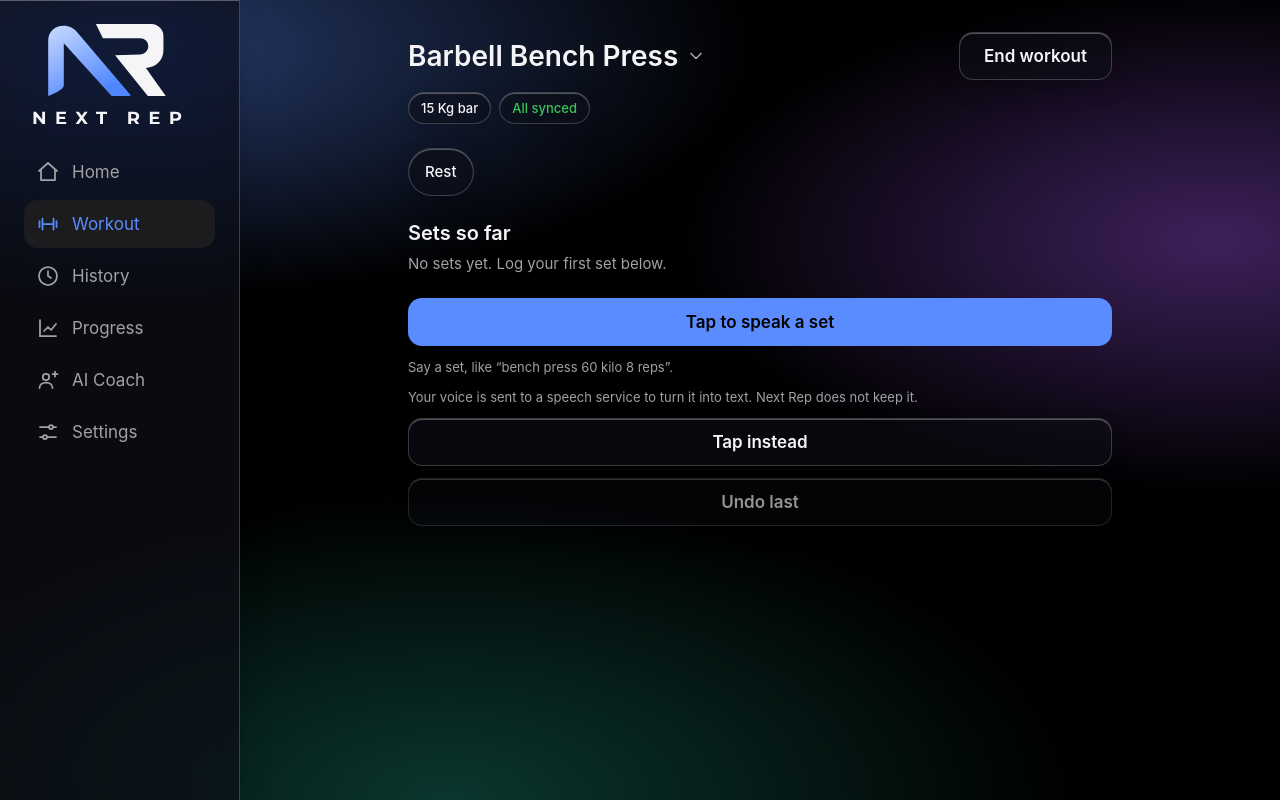
voice logging through the cloud recogniser › says so, and keeps tap logging, when the service has no answer
The image size is (1280, 800).
Click the button "Tap to speak a set": click(760, 322) [408,298,1112,346]
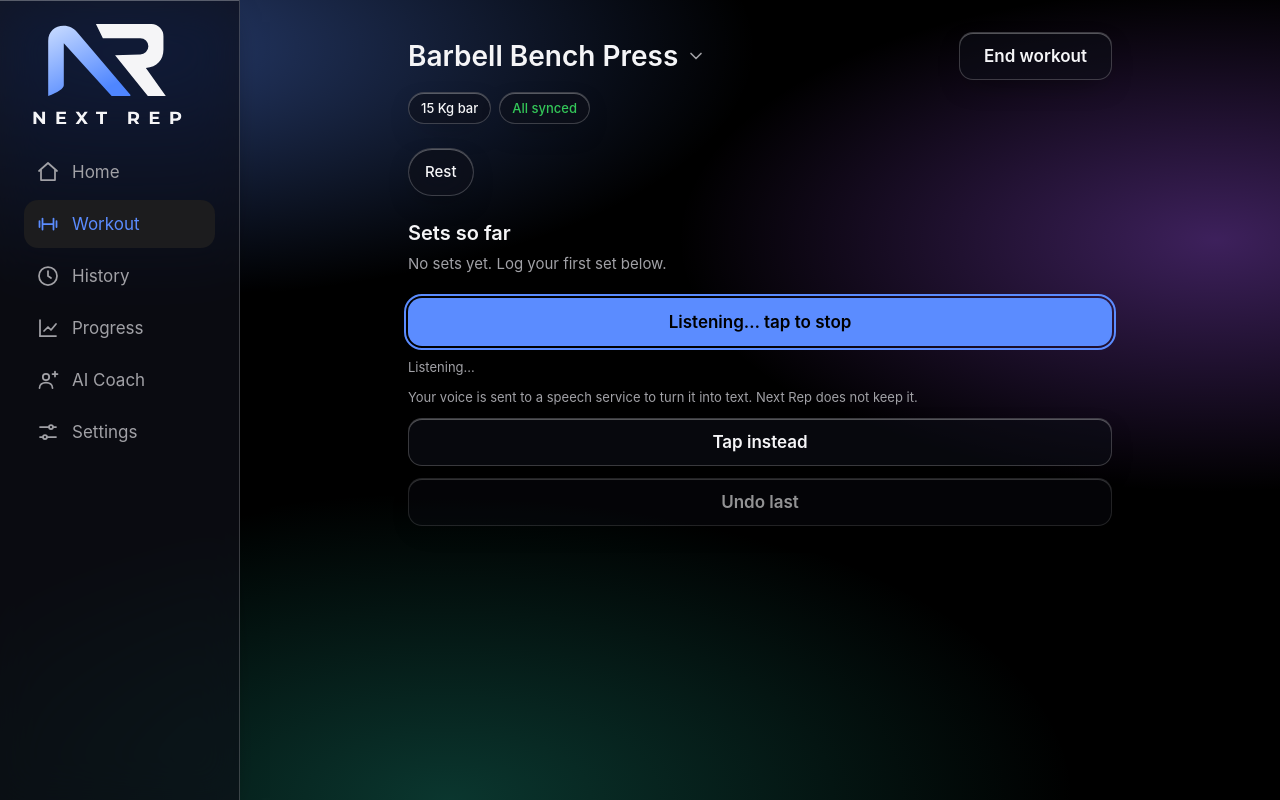
Click the button "Listening… tap to stop": click(760, 322) [408,298,1112,346]
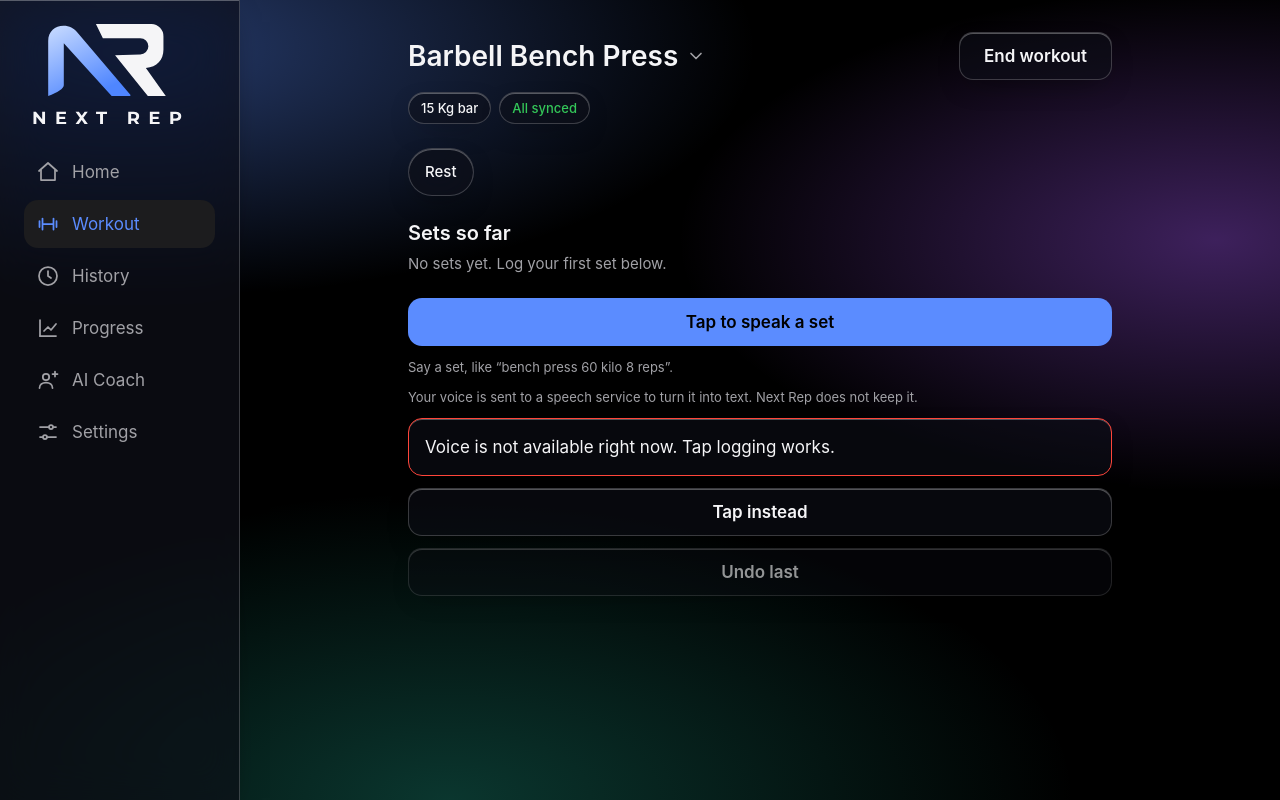
expect the text "Voice is not available right now. Tap logging works." is shown: met, box [408,418,1112,476]
